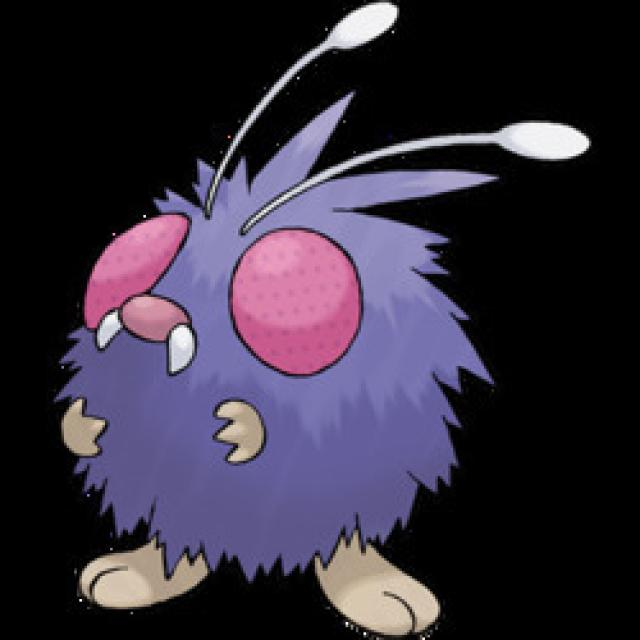Venonat: (18, 32, 570, 640)
